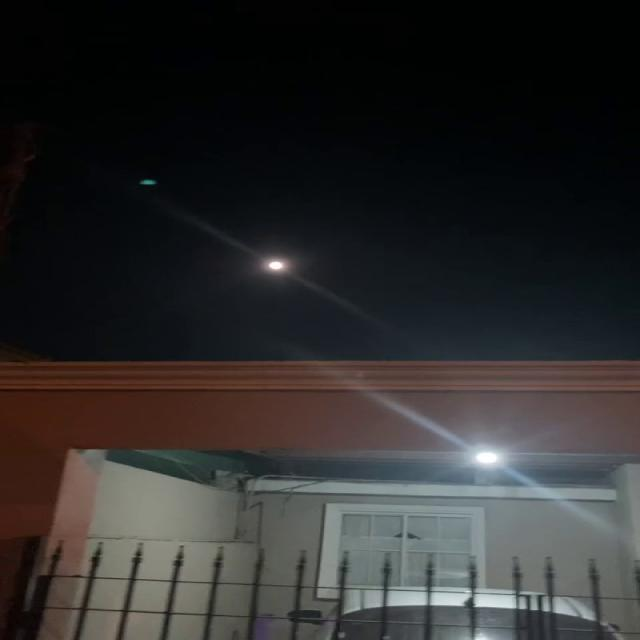moon: (267, 254, 300, 276)
